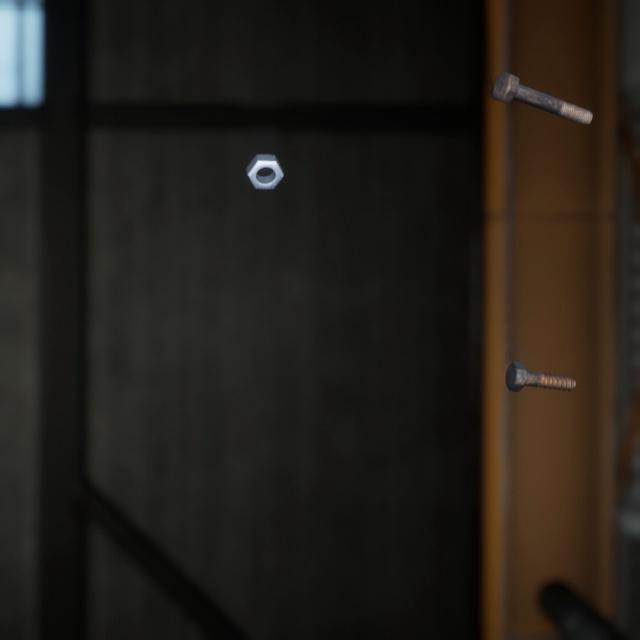bolt: (488, 55, 597, 118), (501, 337, 581, 377)
nut: (241, 135, 288, 179)
